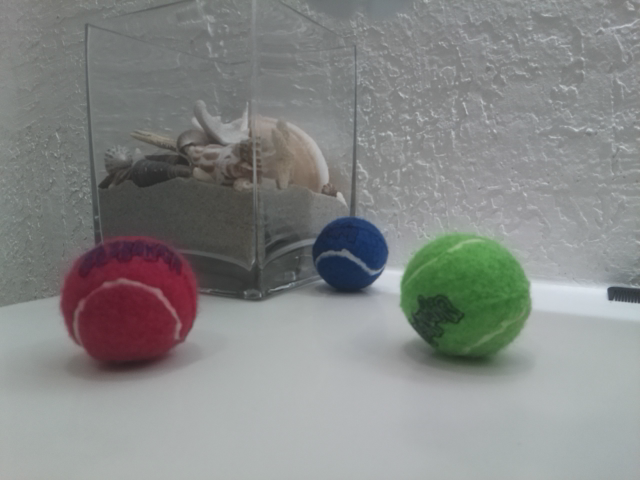blue-ball: (310, 215, 391, 295)
green-ball: (398, 231, 534, 364)
red-ball: (59, 233, 200, 368)
